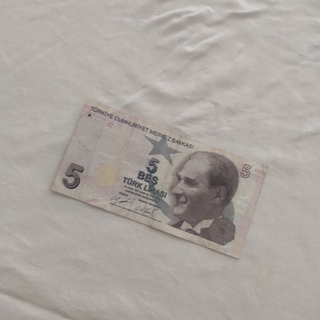5TLFront: (50, 98, 265, 259)
